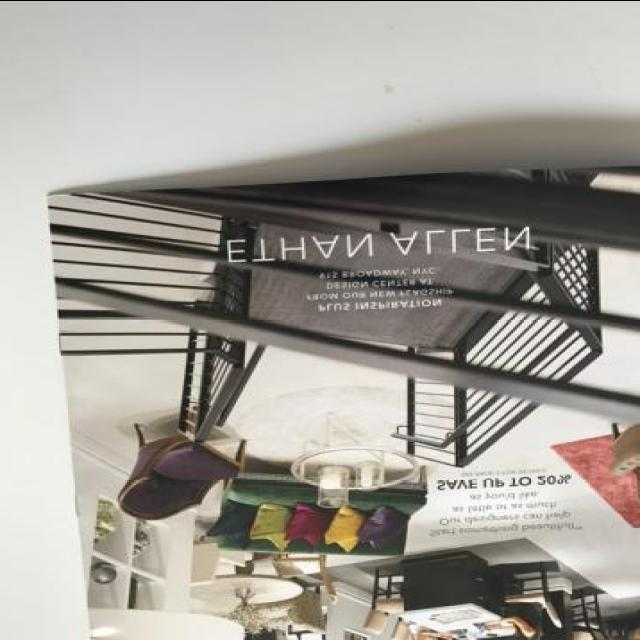kertas: (48, 160, 640, 640)
